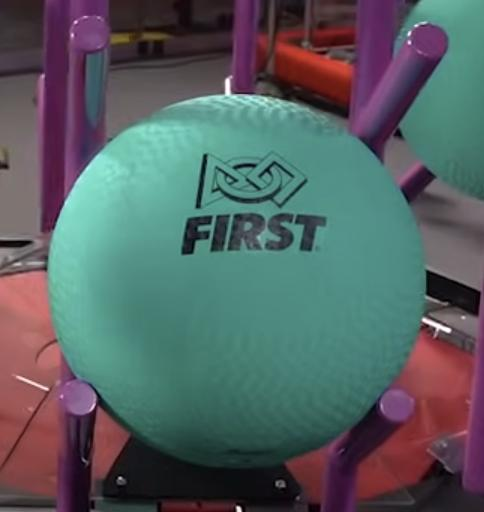algae: (47, 95, 423, 468), (393, 0, 484, 196)
